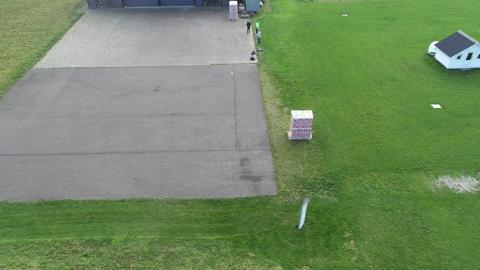RockwoolPallet: (229, 1, 239, 21)
